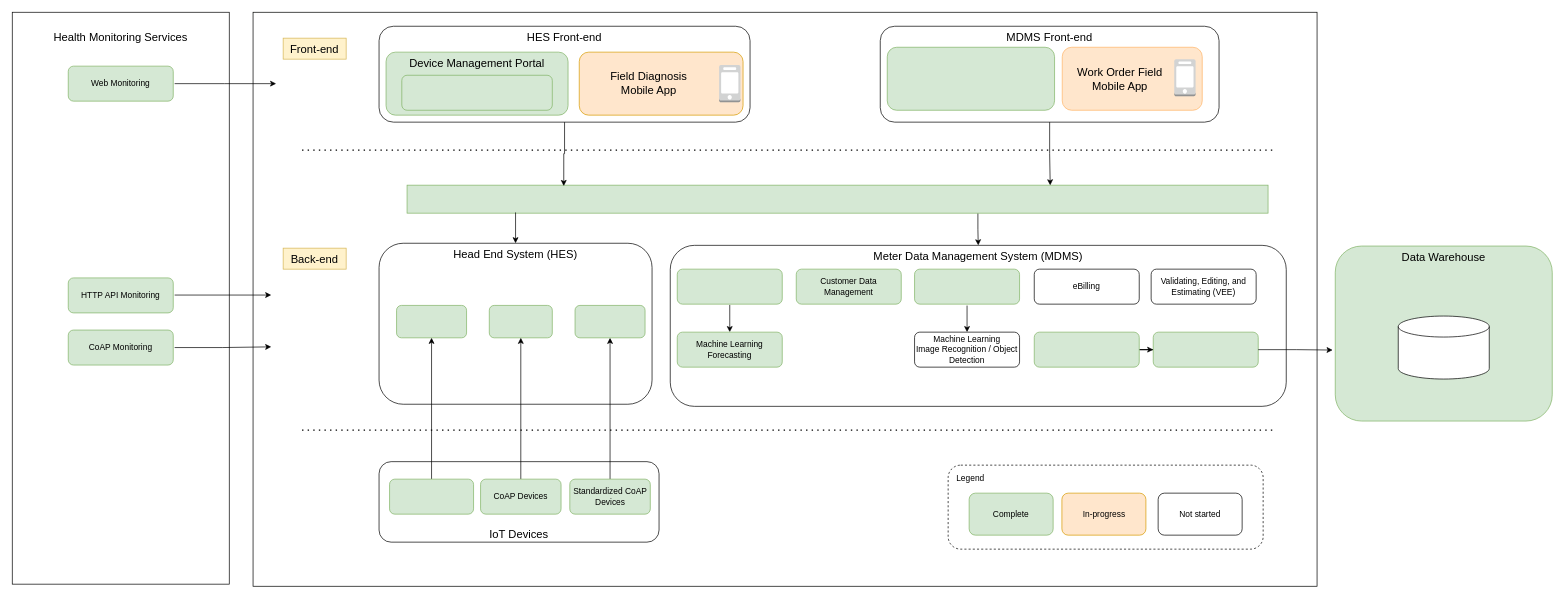
Some shapes in this 1565 by 599 pixel diagram are drawn without their labels. Here are the shapes that lost their labels. From the top down, the centre of each, then its label:
At pixel 476 92: "OpenWSN Mesh Network Visualizer".
At pixel 971 78: "Meter Data Management Portal".
At pixel 837 198: "Authentication and Authorization API".
At pixel 729 286: "Meter Data Management".
At pixel 967 286: "Work Order Management".
At pixel 431 321: "LwM2M Adapter".
At pixel 520 321: "Legacy CoAP Adapter".
At pixel 609 321: "Standardized CoAP Adapter".
At pixel 1086 349: "Reports".
At pixel 1205 349: "Data Warehouse API".
At pixel 431 496: "LwM2M Devices".
